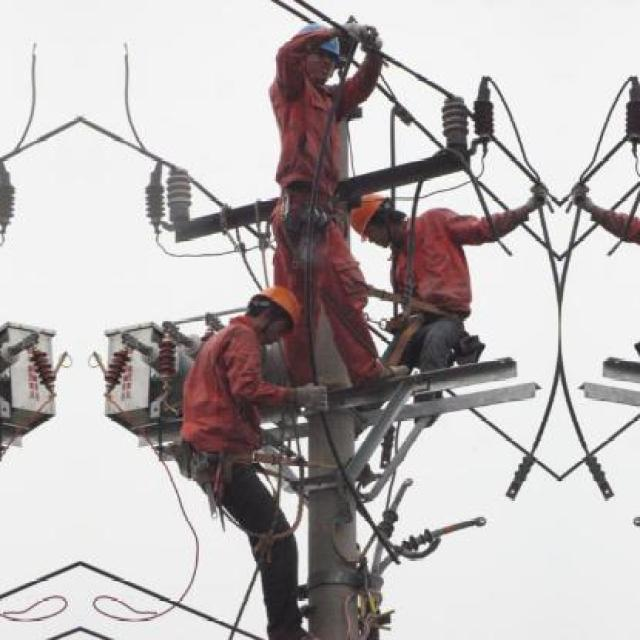helmet: (280, 12, 348, 86), (244, 284, 313, 347), (346, 183, 408, 251)
